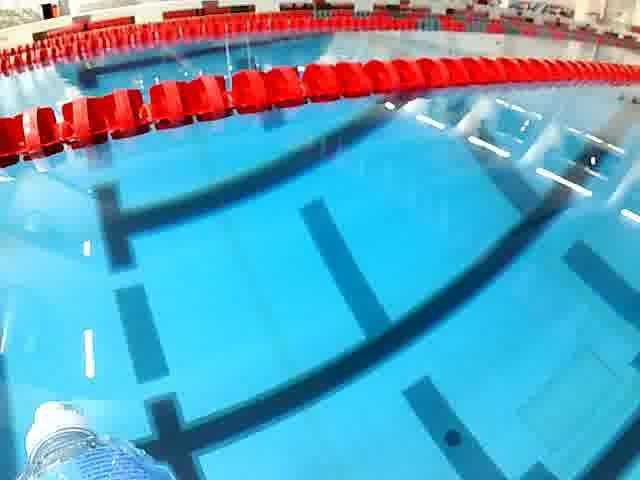Bottle: (0, 392, 181, 479)
